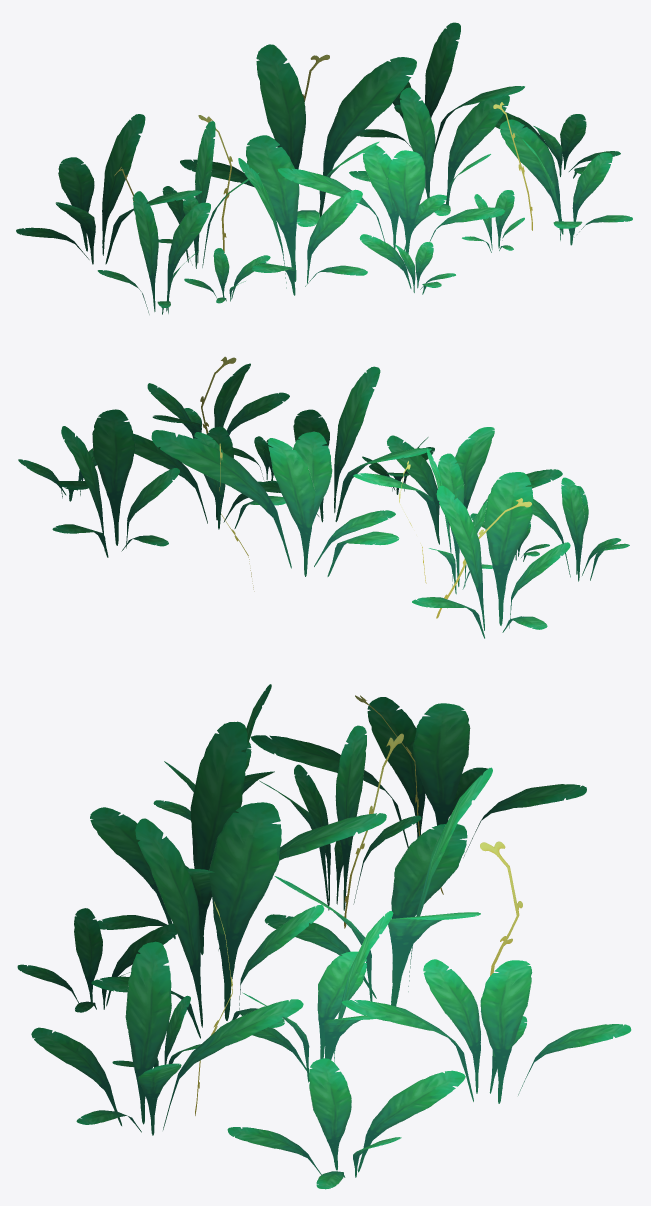
The model's file is PlantNewthing.fbx.
The picture shows the model from 3 angles, top to bottom: view 1: azimuth 30°, elevation 25°; view 2: azimuth 150°, elevation 25°; view 3: azimuth 270°, elevation 25°; orthographic projection. The views are drawn at different scales.
Parts seen in each view (by area): view 1: pasted__pPlane163; view 2: pasted__pPlane163; view 3: pasted__pPlane163.
Part boxes in pixels (x1=…): pasted__pPlane163: x1=16, y1=22, x2=632, y2=314; pasted__pPlane163: x1=18, y1=356, x2=629, y2=638; pasted__pPlane163: x1=17, y1=684, x2=631, y2=1189.
Bounding box in the file's own units: 8.84 × 2.43 × 5.74.
